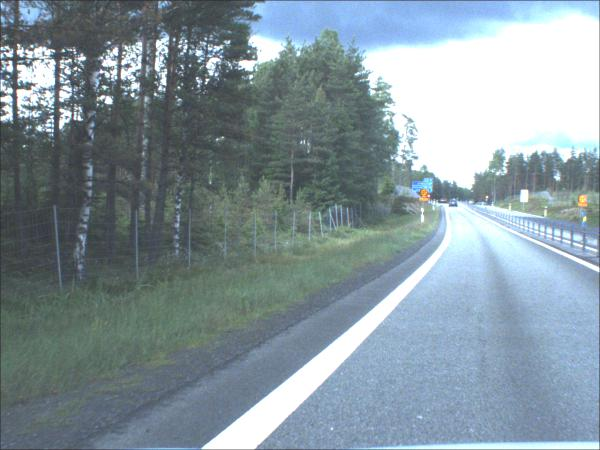70_SIGN: (579, 196, 588, 205), (420, 191, 429, 199), (427, 196, 431, 199), (486, 197, 489, 200)
